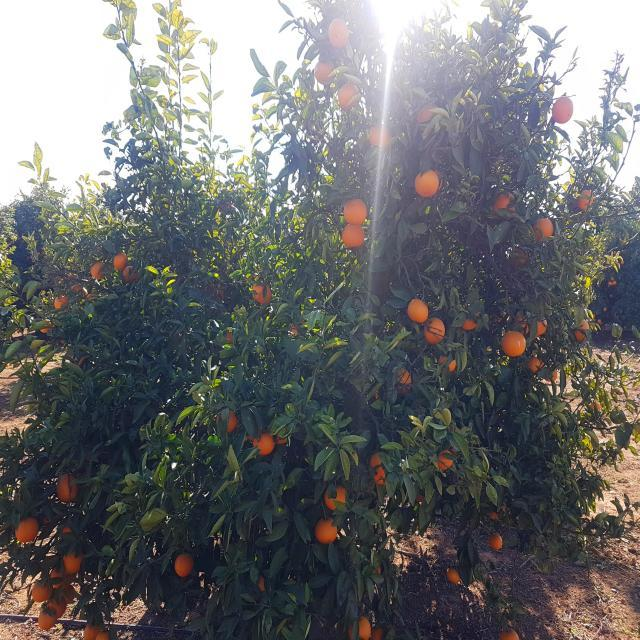Jeruk Sudah Matang: (417, 104, 439, 136), (502, 332, 528, 359), (416, 172, 442, 198), (328, 18, 350, 48), (370, 452, 390, 484), (342, 225, 368, 249), (344, 200, 370, 224), (46, 587, 66, 617), (553, 97, 574, 124), (370, 124, 392, 149), (337, 84, 357, 111), (318, 519, 340, 543), (16, 518, 38, 542), (410, 298, 430, 324), (314, 60, 334, 86), (56, 475, 76, 500), (396, 368, 414, 395), (424, 324, 446, 346), (494, 192, 516, 213), (250, 282, 270, 305), (175, 556, 194, 579), (538, 218, 558, 239), (255, 435, 275, 455), (33, 581, 53, 600), (50, 567, 70, 586), (64, 555, 82, 575), (38, 609, 56, 629), (334, 484, 350, 504), (574, 321, 590, 341), (359, 619, 374, 639), (438, 450, 453, 470), (578, 190, 594, 208), (83, 624, 101, 640), (122, 264, 138, 282), (61, 585, 76, 604), (227, 412, 240, 432), (115, 252, 128, 270), (89, 261, 102, 278), (447, 570, 462, 584), (528, 358, 542, 372), (538, 322, 550, 337), (490, 537, 503, 550), (52, 296, 66, 308), (502, 629, 517, 640), (462, 322, 477, 332), (446, 361, 458, 373), (96, 632, 109, 640), (258, 579, 266, 591)
